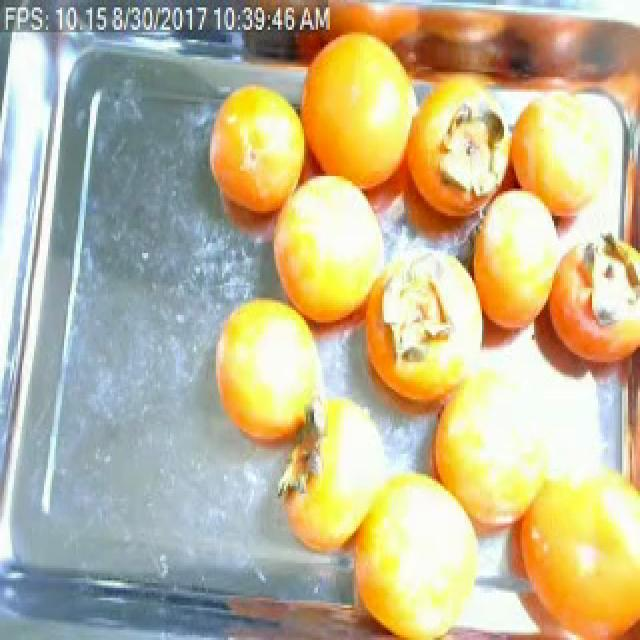Fruit: (490, 74, 634, 256), (202, 278, 336, 466), (194, 70, 318, 243)
